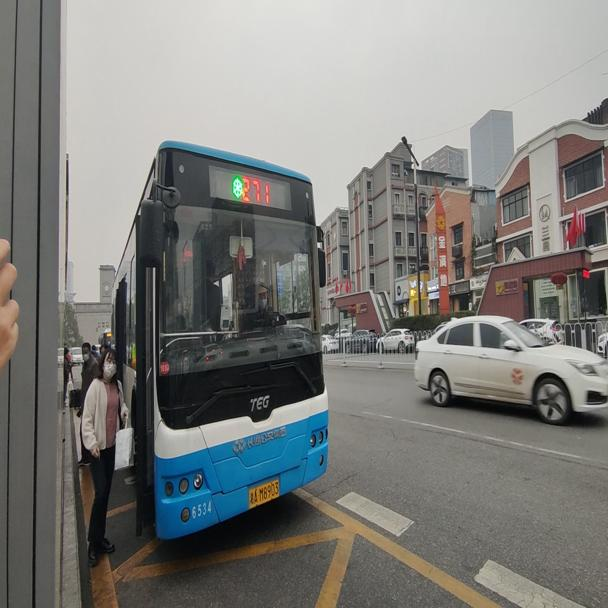bus: (109, 139, 329, 540)
screen: (240, 163, 274, 207)
